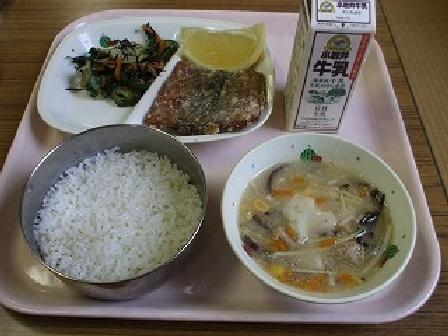Citrus: (172, 15, 271, 79)
Meat: (147, 61, 267, 141)
Milk: (280, 0, 385, 132)
Rice: (22, 126, 203, 295)
Salad: (65, 24, 173, 100)
Soups: (229, 137, 421, 309)
